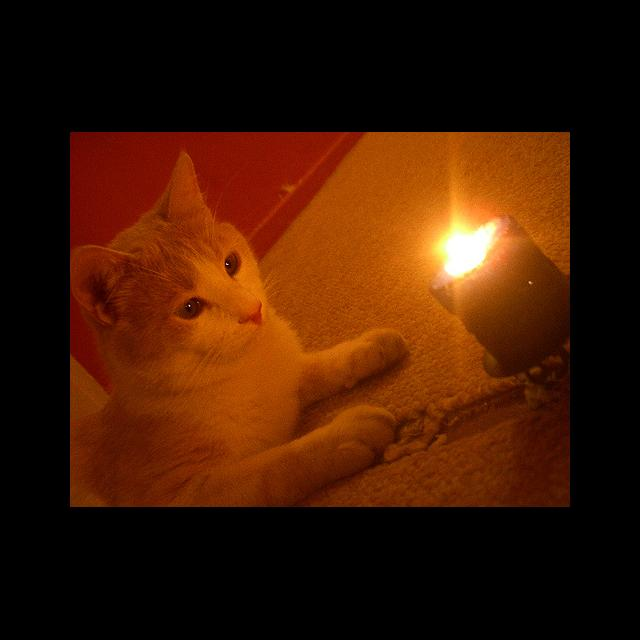animals: (72, 150, 261, 324)
